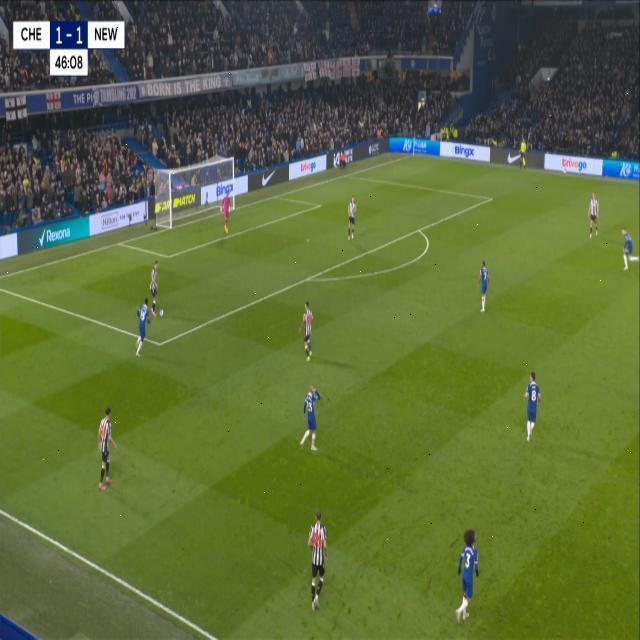Ball: (158, 306, 164, 318)
Chelsea: (453, 524, 482, 626), (298, 378, 324, 455), (521, 364, 543, 440), (132, 292, 154, 360), (472, 252, 493, 315), (618, 221, 640, 277)
Newcastle: (306, 504, 330, 614), (95, 402, 119, 496), (297, 298, 317, 364), (586, 187, 600, 240), (148, 257, 158, 321), (346, 192, 358, 242)
Newcastle Keeper: (217, 188, 235, 238)
